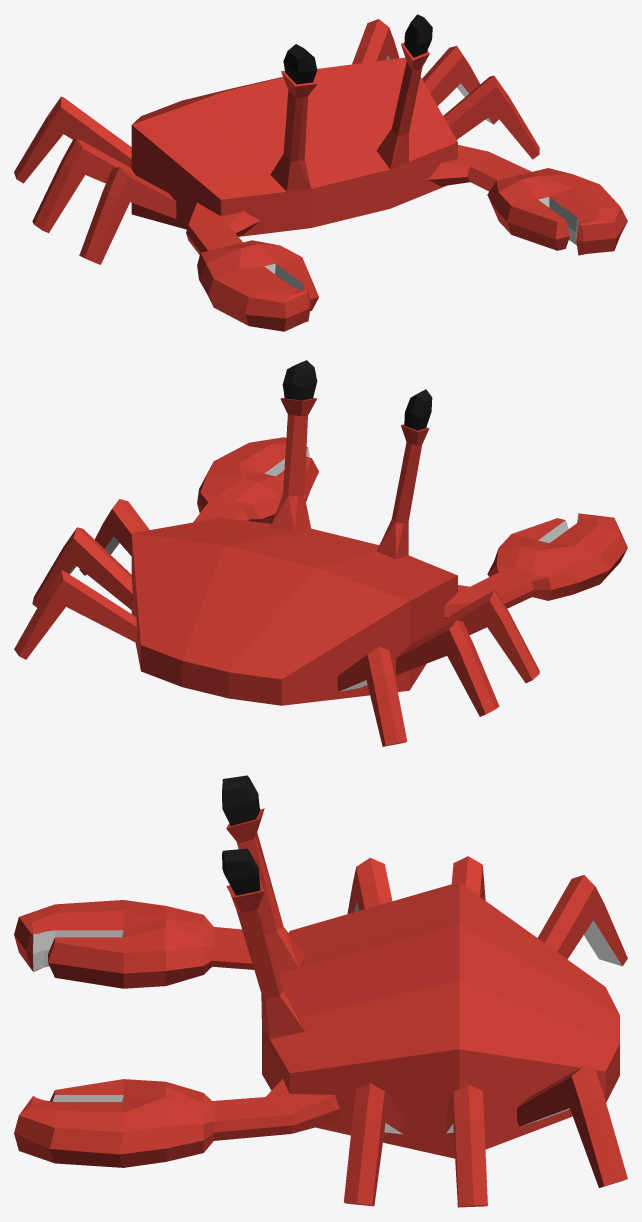
Rendered from Crab_01.fbx.
The picture shows the model from 3 angles, top to bottom: view 1: azimuth 30°, elevation 25°; view 2: azimuth 150°, elevation 25°; view 3: azimuth 270°, elevation 25°; orthographic projection. The views are drawn at different scales.
Visible parts, largest first — view 1: Crab_01; view 2: Crab_01; view 3: Crab_01.
Part boxes in pixels (left/top/right/bottom): Crab_01: left=14, top=14, right=627, bottom=331; Crab_01: left=14, top=360, right=627, bottom=746; Crab_01: left=14, top=775, right=627, bottom=1207.
Size of the model in its own units: 6.99 by 3.22 by 6.53.
